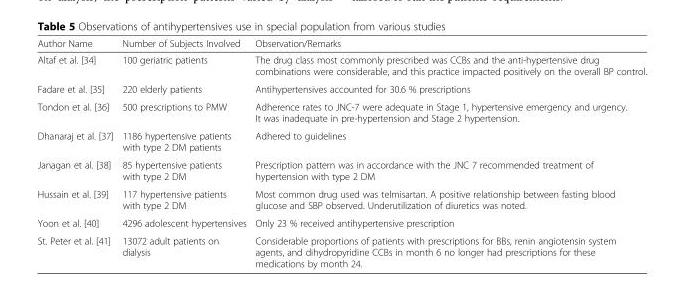table: (36, 37, 646, 268)
table column: (250, 37, 646, 268), (117, 37, 250, 268), (36, 37, 117, 268)
table column header: (36, 37, 646, 51)
table row: (36, 231, 646, 268), (36, 97, 646, 126), (36, 126, 646, 155), (36, 155, 646, 184), (36, 184, 646, 213), (36, 51, 646, 79), (36, 79, 646, 97), (36, 213, 646, 231), (36, 37, 646, 51)
